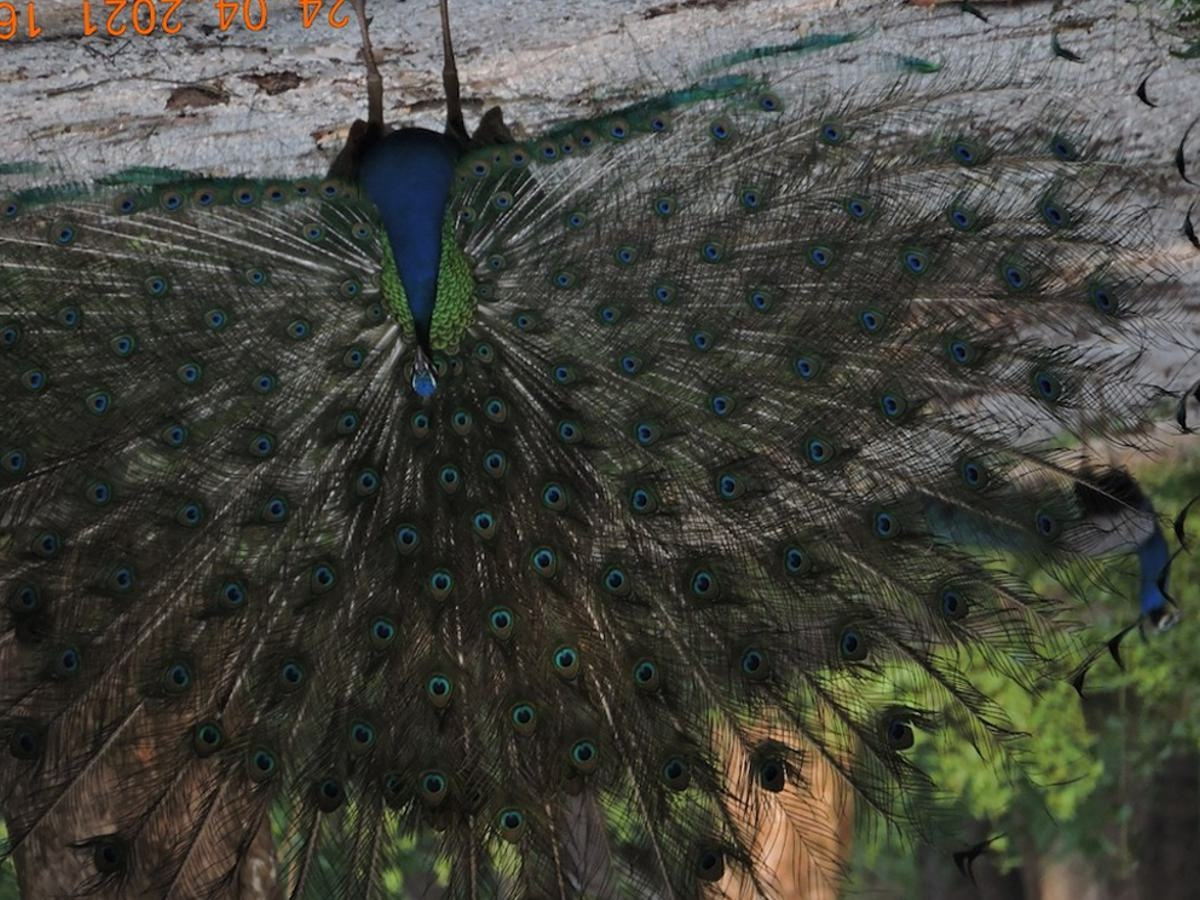peacock: (3, 85, 1200, 900)
